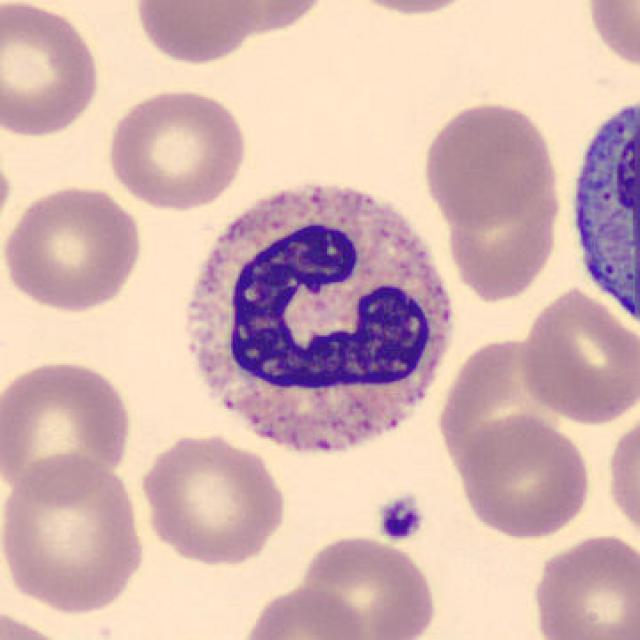Lymphocyte: (556, 84, 640, 338)
Neutrophil: (164, 164, 466, 478)
Platelets: (373, 492, 427, 545)
RBC: (0, 451, 149, 616), (135, 430, 290, 568), (0, 354, 137, 506), (0, 180, 148, 316), (103, 85, 251, 212), (454, 409, 596, 541), (418, 99, 562, 229), (443, 338, 573, 481), (442, 162, 564, 307), (516, 284, 636, 427), (295, 532, 439, 640), (0, 0, 105, 141), (526, 530, 638, 640), (130, 0, 263, 67), (236, 583, 375, 640), (604, 406, 640, 548), (201, 0, 334, 37), (581, 0, 639, 72), (0, 603, 80, 640), (333, 0, 487, 18), (0, 144, 14, 254)
